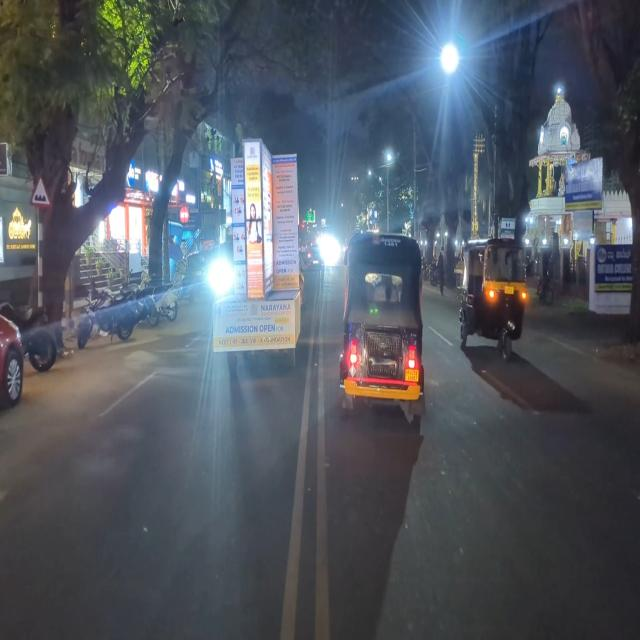bien_cam: (29, 174, 52, 208)
